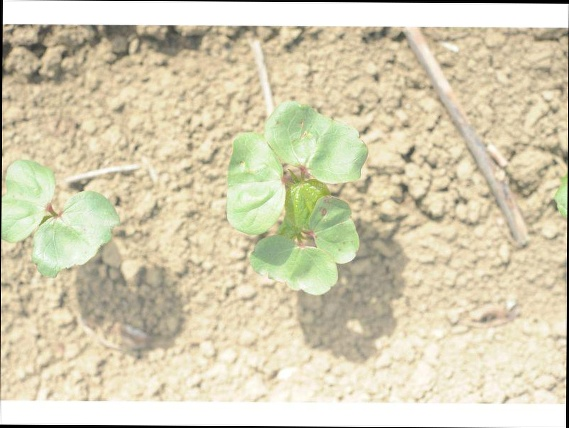cotton: (224, 101, 370, 297), (1, 155, 119, 277)
